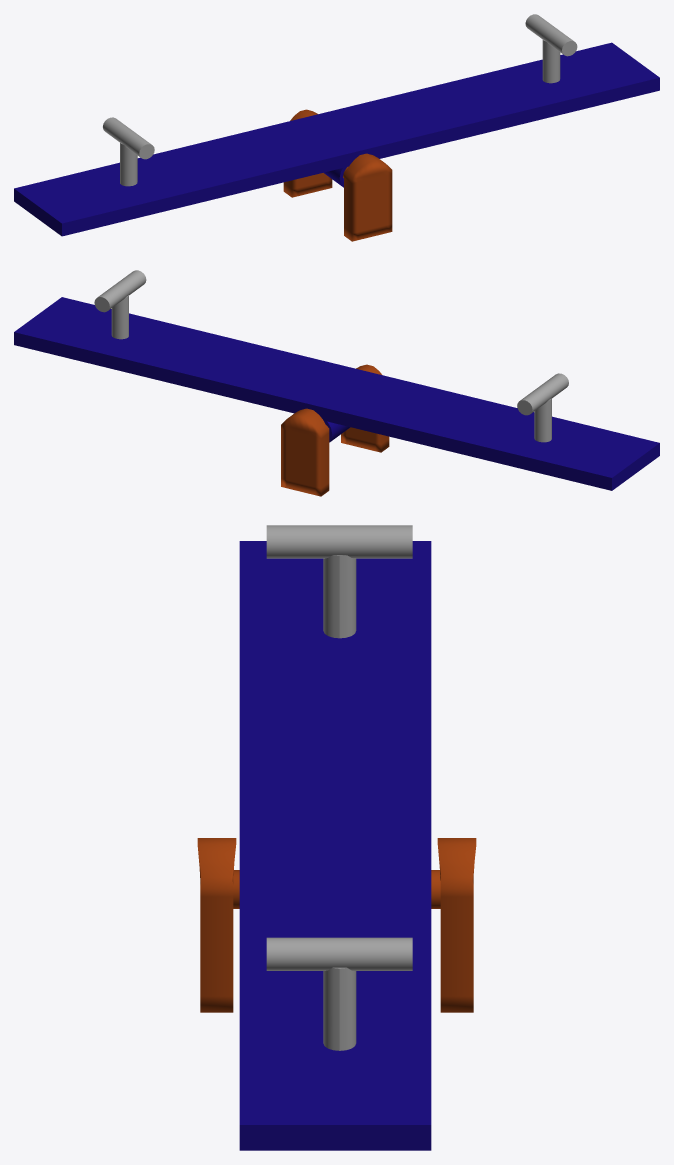
File: csaw.fbx
3 views of the same model, one above another, from view 1: azimuth 30°, elevation 25°; view 2: azimuth 150°, elevation 25°; view 3: azimuth 270°, elevation 25° (orthographic). The views are drawn at different scales.
Visible parts, largest first — view 1: csaw, tubol salaog; view 2: csaw, tubol salaog; view 3: csaw, tubol salaog.
Boxes of the visible parts, x1,y1,x2,y2 form: csaw: (14, 14, 659, 236); tubol salaog: (283, 109, 392, 241); csaw: (14, 270, 659, 490); tubol salaog: (281, 364, 389, 496); csaw: (239, 525, 431, 1150); tubol salaog: (197, 838, 476, 1012).
Bounding box in the file's own units: 1440 × 302 × 291.
